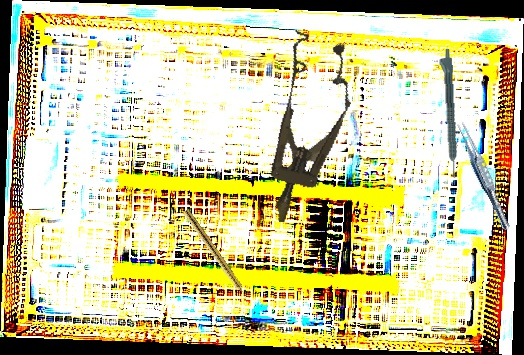Handpiece: (181, 208, 251, 303), (437, 47, 459, 179)
Speculum: (244, 29, 366, 232)
Tissue Forceps: (451, 118, 516, 233)
